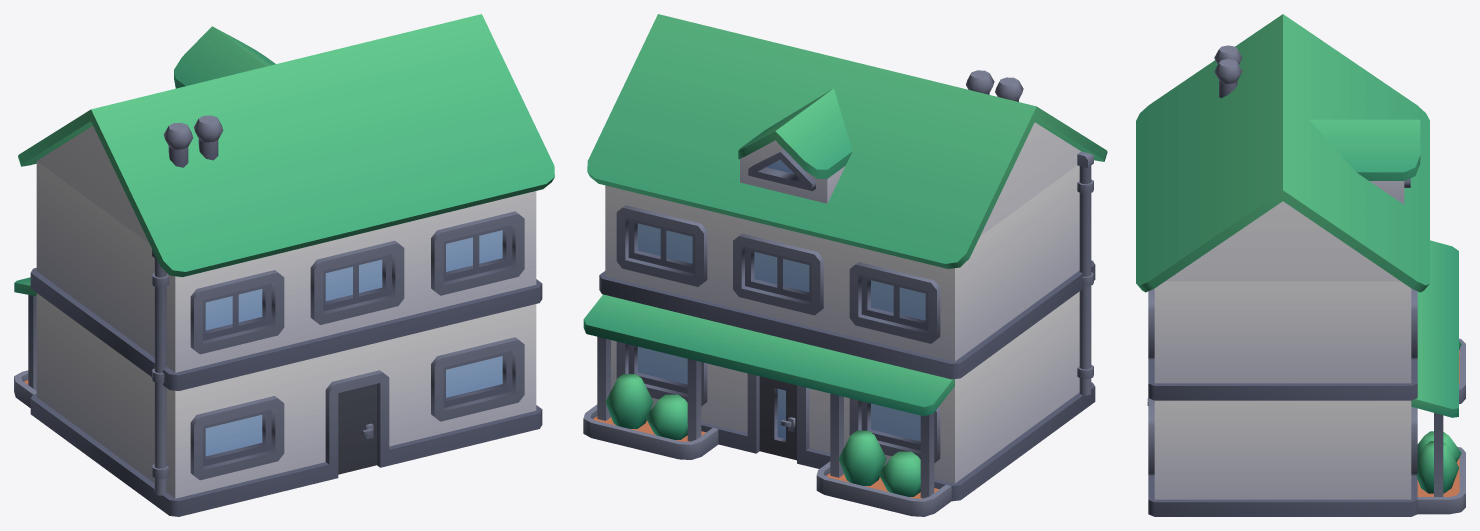
The model's file is u-building-type-e.glb.
3 views of the same model, side by side, from view 1: azimuth 30°, elevation 25°; view 2: azimuth 150°, elevation 25°; view 3: azimuth 270°, elevation 25° (orthographic). The views are drawn at different scales.
Parts seen in each view (by area): view 1: building-type-e; view 2: building-type-e; view 3: building-type-e.
Part boxes in pixels (x1,y1,x2,y2): building-type-e: (14,14,554,516); building-type-e: (583,14,1107,516); building-type-e: (1136,14,1465,516).
Size of the model in its own units: 1.3 by 1.14 by 1.03.
Materials: 1 (1 with a texture image).
